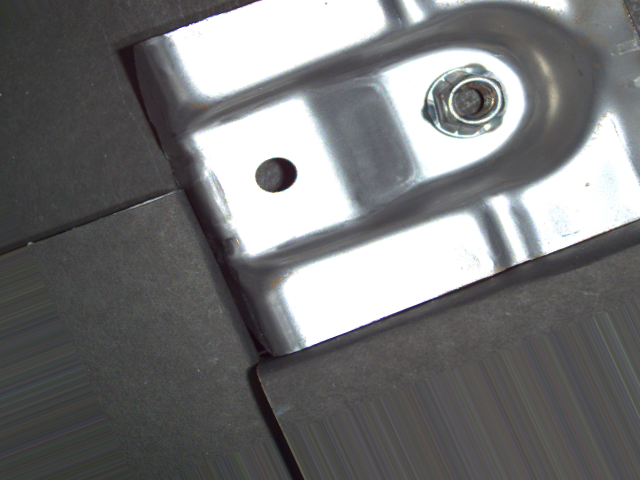good: (421, 61, 511, 141)
